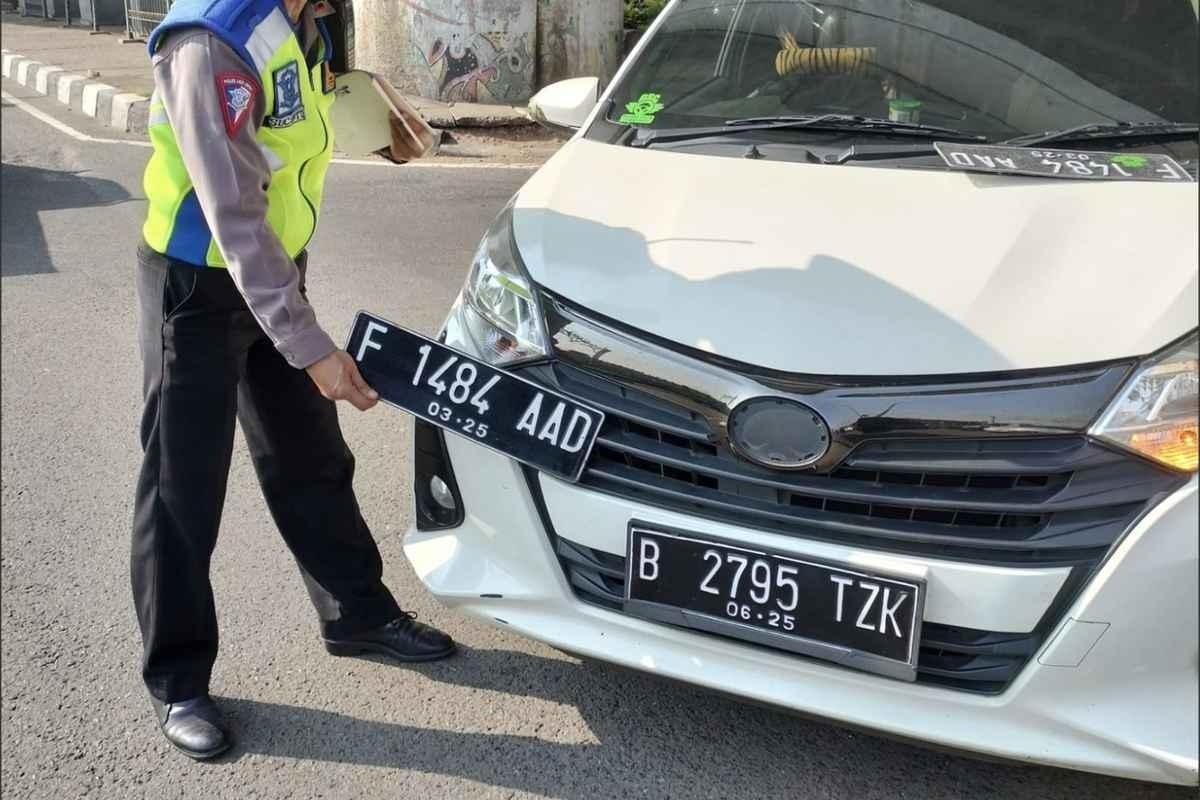plate: (335, 310, 610, 485), (627, 528, 925, 672)
